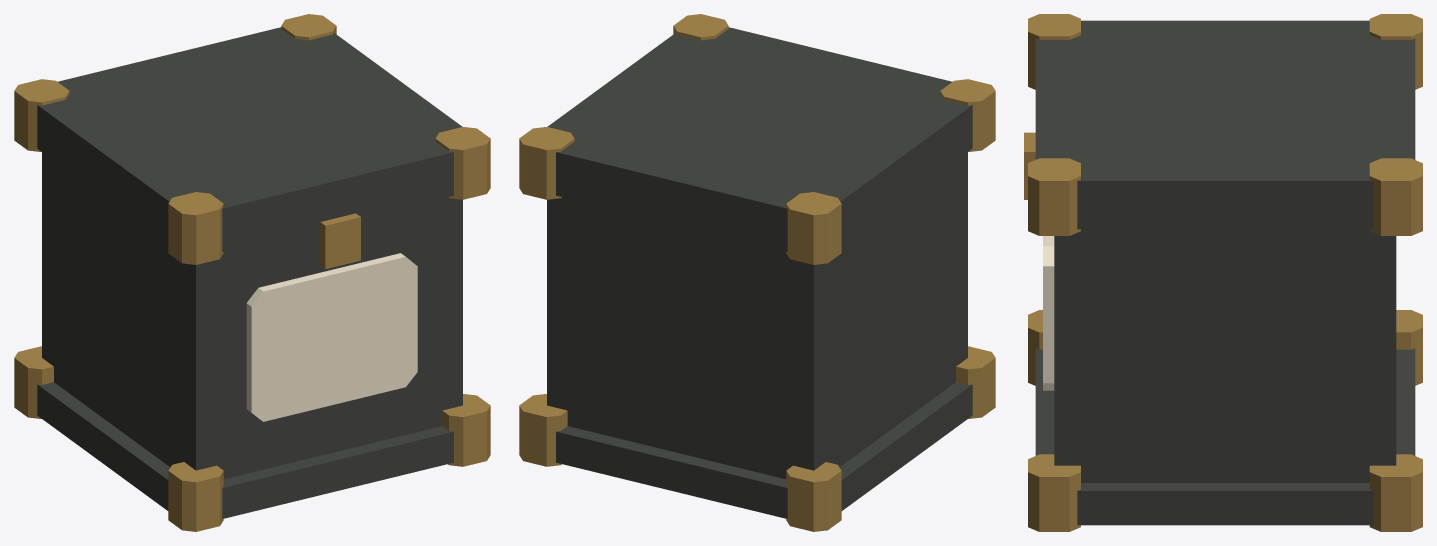
Rendered from b1_crate.glb.
3 renders of one model, left to right at view 1: azimuth 30°, elevation 25°; view 2: azimuth 150°, elevation 25°; view 3: azimuth 270°, elevation 25°, orthographic. The views are drawn at different scales.
Parts seen in each view (by area): view 1: b1_crate; view 2: b1_crate; view 3: b1_crate.
Boxes of the visible parts, bbox=[...] form: b1_crate: bbox=[14, 14, 490, 531]; b1_crate: bbox=[519, 14, 995, 531]; b1_crate: bbox=[1024, 14, 1422, 531].
Size of the model in its own units: 1.04 by 1.02 by 1.05.
